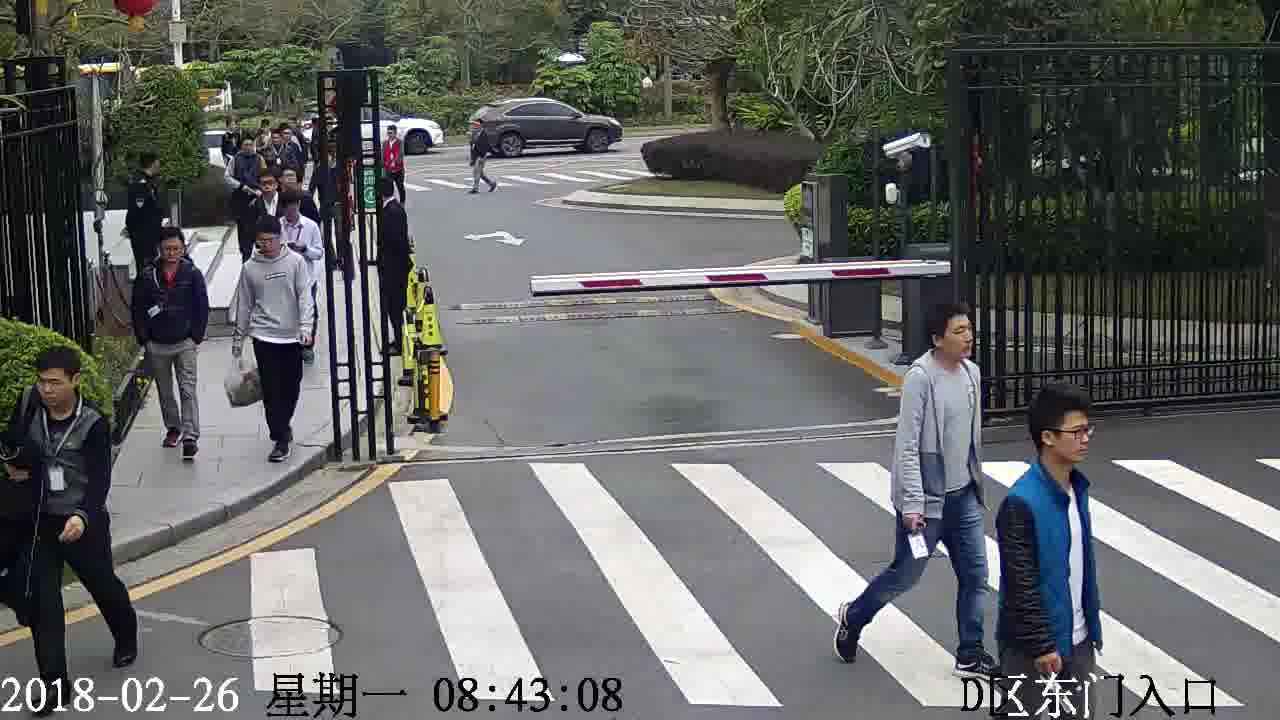face: (1043, 407, 1098, 462), (937, 315, 977, 364), (36, 368, 73, 405), (155, 235, 185, 266)
person: (998, 385, 1096, 527), (16, 347, 110, 439), (902, 303, 981, 403), (241, 213, 308, 276), (138, 225, 202, 289), (274, 186, 321, 241), (374, 174, 410, 225), (129, 150, 167, 193), (249, 168, 287, 209), (277, 164, 310, 204), (313, 137, 343, 177), (230, 132, 265, 166), (269, 121, 301, 150)
